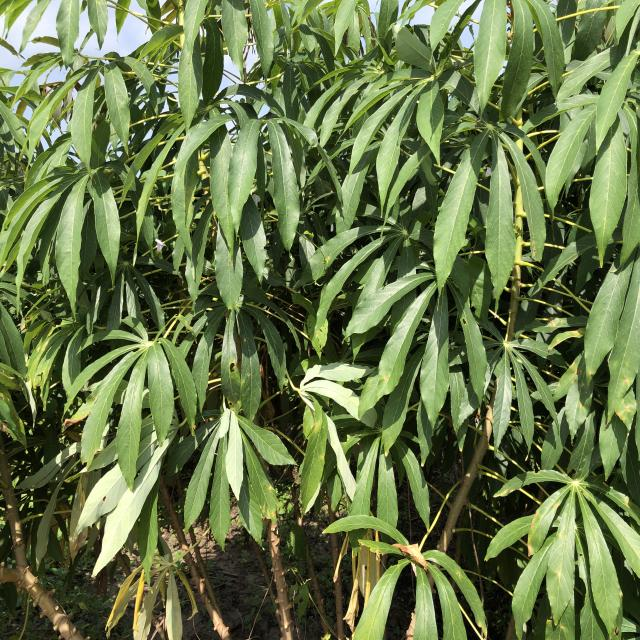Mosca: (514, 353, 524, 369), (323, 250, 333, 265), (99, 492, 109, 507)
